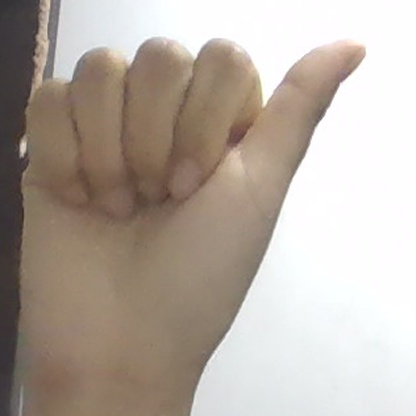A: (16, 39, 365, 391)
